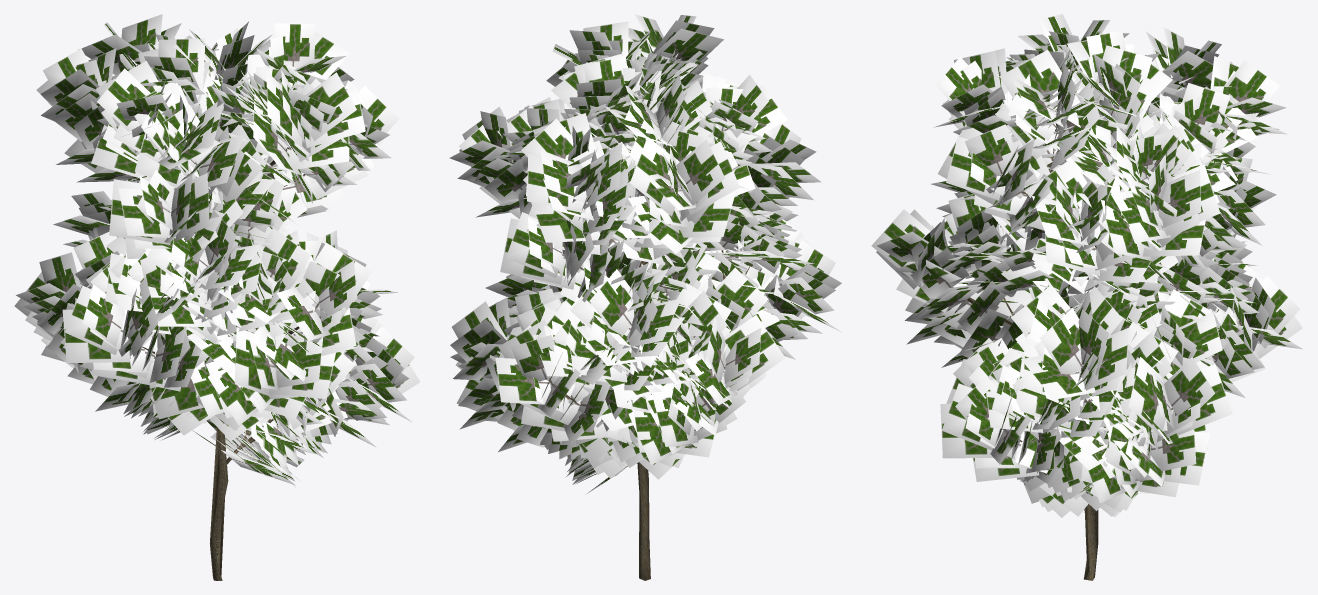
File: real_tree_models.lod2.glb
3 views of the same model, side by side, from view 1: azimuth 30°, elevation 25°; view 2: azimuth 150°, elevation 25°; view 3: azimuth 270°, elevation 25° (orthographic). The views are drawn at different scales.
Parts seen in each view (by area): view 1: Maple_1_Maple_Leaf_0, Maple_1_Maple_Bark_0; view 2: Maple_1_Maple_Leaf_0, Maple_1_Maple_Bark_0; view 3: Maple_1_Maple_Leaf_0, Maple_1_Maple_Bark_0.
Part boxes in pixels (bbox=[...]): Maple_1_Maple_Leaf_0: bbox=[14, 14, 420, 487]; Maple_1_Maple_Bark_0: bbox=[142, 147, 304, 580]; Maple_1_Maple_Leaf_0: bbox=[449, 14, 841, 493]; Maple_1_Maple_Bark_0: bbox=[547, 123, 752, 580]; Maple_1_Maple_Leaf_0: bbox=[871, 14, 1302, 517]; Maple_1_Maple_Bark_0: bbox=[952, 109, 1210, 580].
Size of the model in its own units: 11.8 by 17.87 by 12.86.
Materials: 2 (2 with a texture image).
